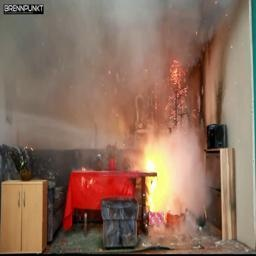fire: (136, 134, 177, 216)
